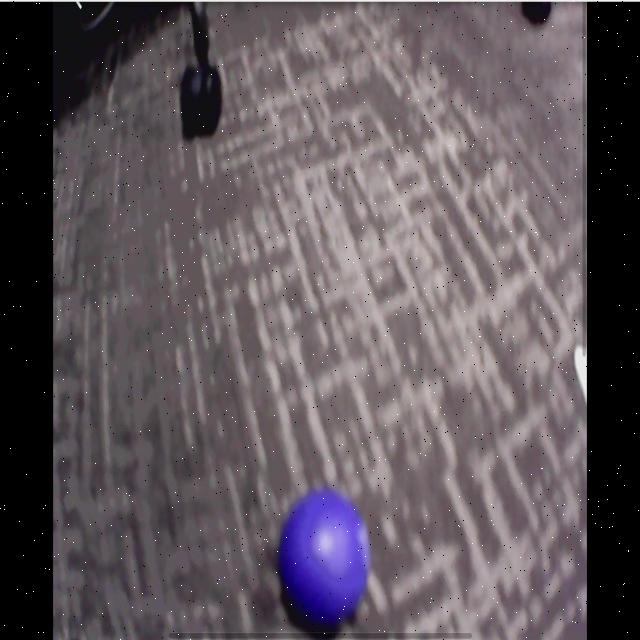ball: (278, 489, 372, 631)
